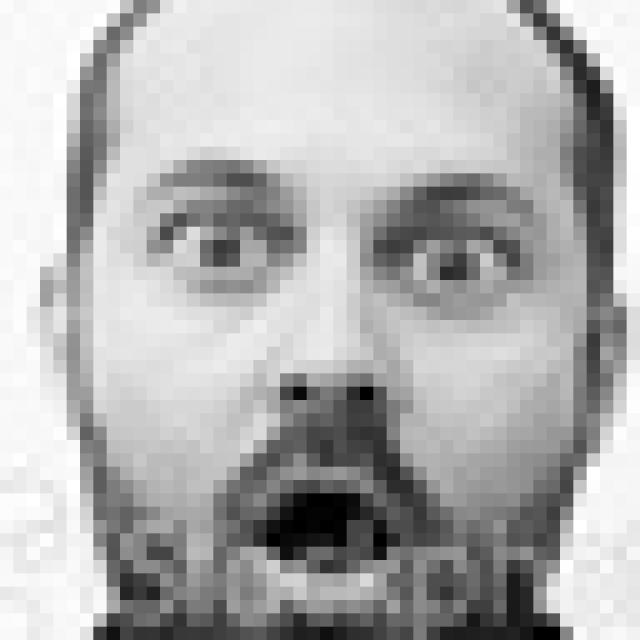surprise: (110, 137, 552, 618)
